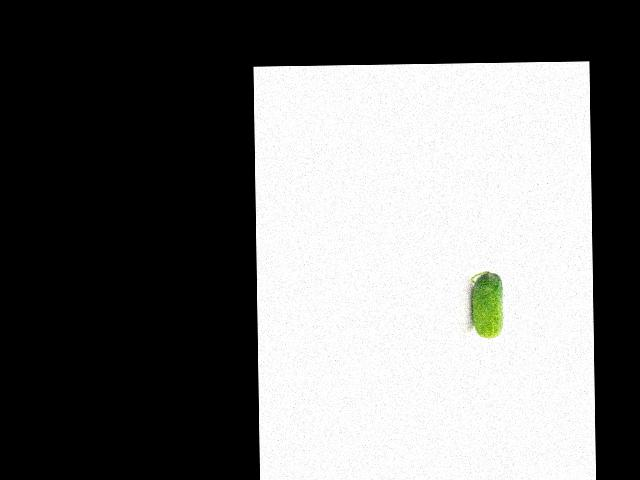cucumber: (470, 271, 503, 339)
